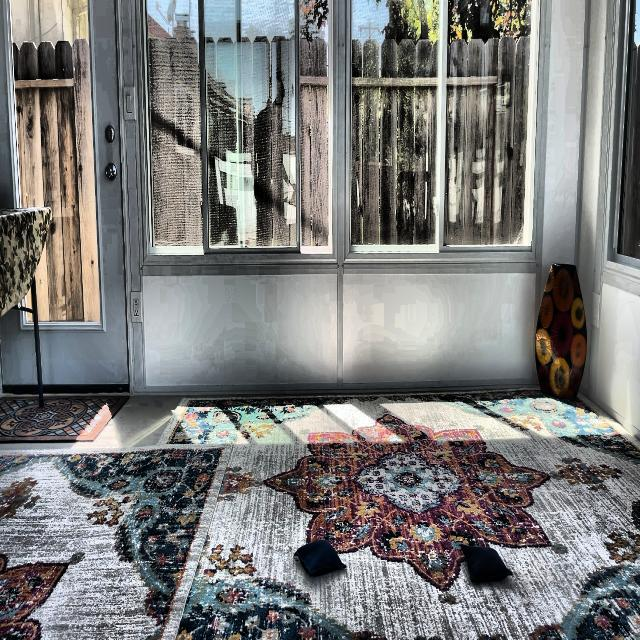blue-bean-bag: (458, 542, 514, 584), (293, 538, 346, 577)
